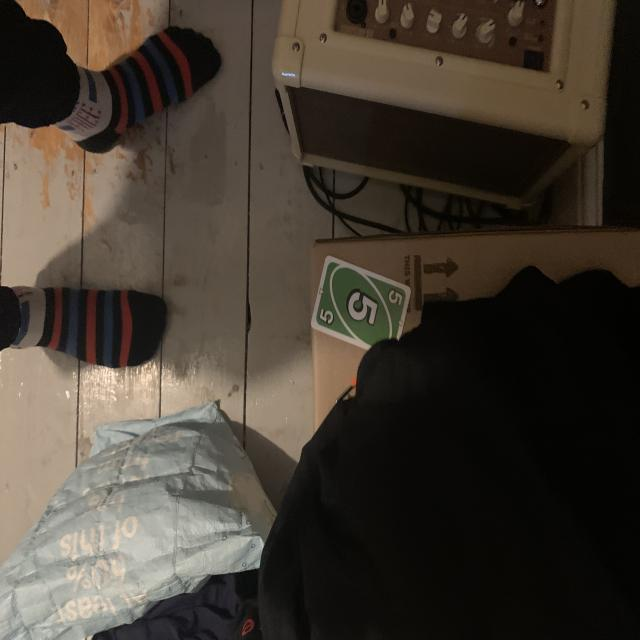lgreen-5: (317, 304, 337, 328)
